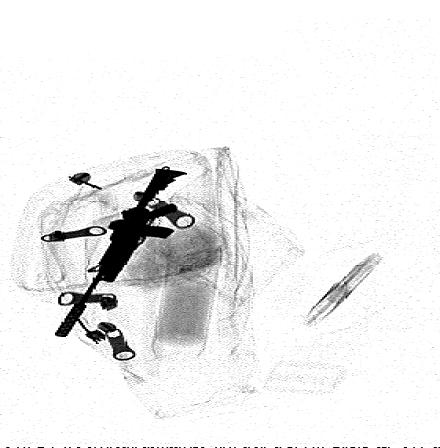Gun: (52, 166, 186, 340)
